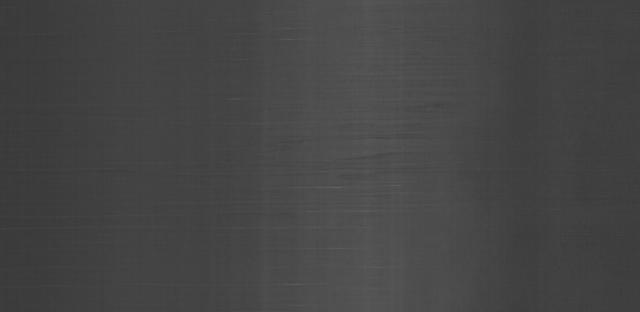waist_folding: (296, 53, 439, 242)
